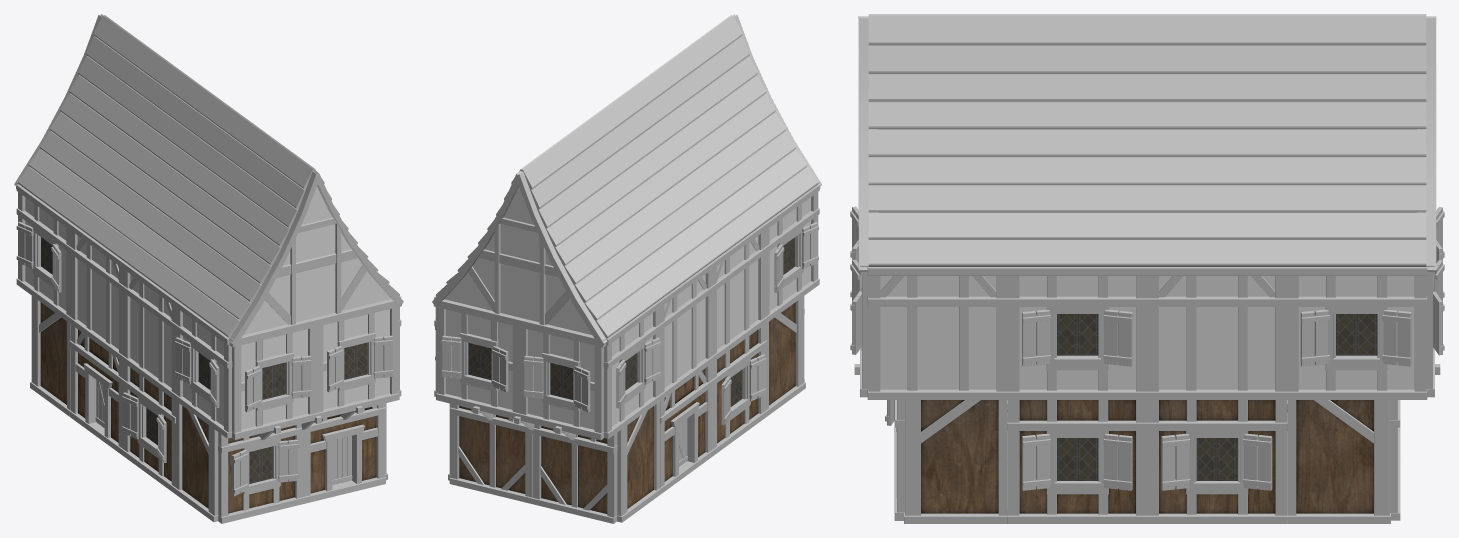
The model's file is House_1A9.fbx.
The picture shows the model from 3 angles, left to right: view 1: azimuth 30°, elevation 25°; view 2: azimuth 150°, elevation 25°; view 3: azimuth 270°, elevation 25°; orthographic projection. The views are drawn at different scales.
Visible parts, largest first — view 1: House_1A9, Cube.2364, Plane.410, Plane.406, Plane.407; view 2: House_1A9, Plane.314, Plane.315; view 3: House_1A9, Plane.419, Plane.420, Plane.424, Plane.425.
Boxes of the visible parts, x1,y1,x2,y2 form: House_1A9: (14,14,403,523); Cube.2364: (332,435,352,484); Plane.410: (249,446,272,483); Plane.406: (262,362,285,399); Plane.407: (344,342,367,379); House_1A9: (432,14,821,523); Plane.314: (550,363,573,399); Plane.315: (468,343,491,379); House_1A9: (850,14,1444,523); Plane.419: (1196,438,1237,480); Plane.420: (1057,438,1098,480); Plane.424: (1336,314,1377,355); Plane.425: (1057,314,1098,355).
Bounding box in the file's own units: 879 × 1548 × 1839.
